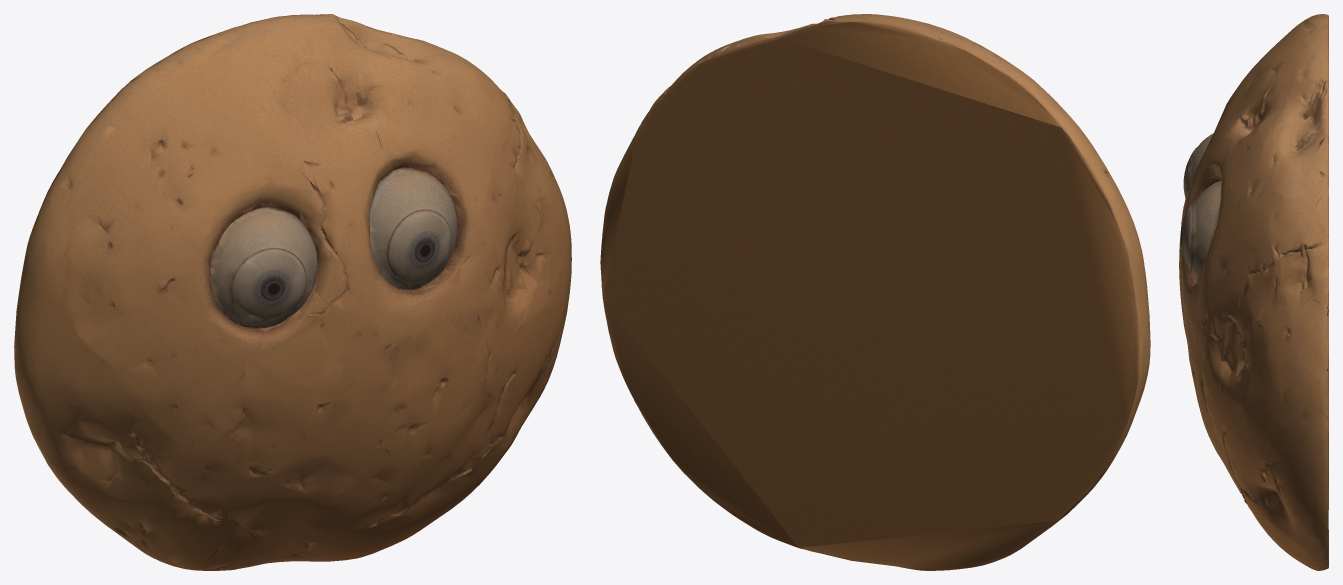
The model's file is potato.glb.
3 views of the same model, side by side, from view 1: azimuth 30°, elevation 25°; view 2: azimuth 150°, elevation 25°; view 3: azimuth 270°, elevation 25° (orthographic). The views are drawn at different scales.
Visible parts, largest first — view 1: mesh_node; view 2: mesh_node; view 3: mesh_node.
Part boxes in pixels (bbox=[...]): mesh_node: bbox=[14, 14, 571, 570]; mesh_node: bbox=[600, 14, 1150, 570]; mesh_node: bbox=[1179, 14, 1328, 570].
Size of the model in its own units: 0.0826 by 0.08 by 0.0229.
Materials: 1 (1 with a texture image).
